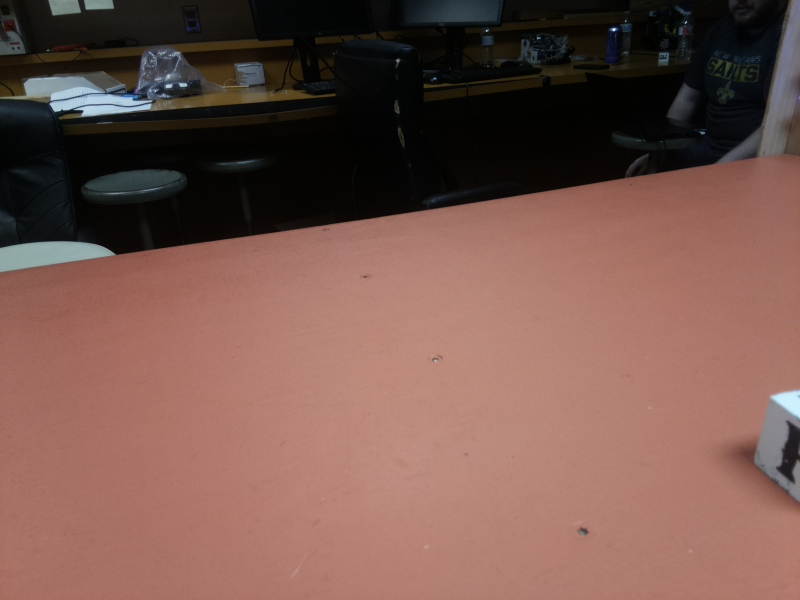blockF: (755, 376, 800, 499)
corner: (752, 1, 800, 163)
